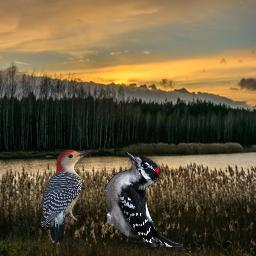Woodpecker: (103, 152, 183, 247), (40, 149, 95, 243)
